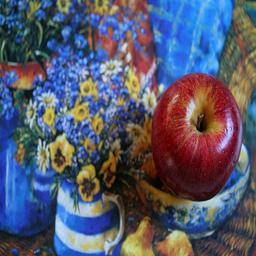apple: (151, 74, 243, 202)
